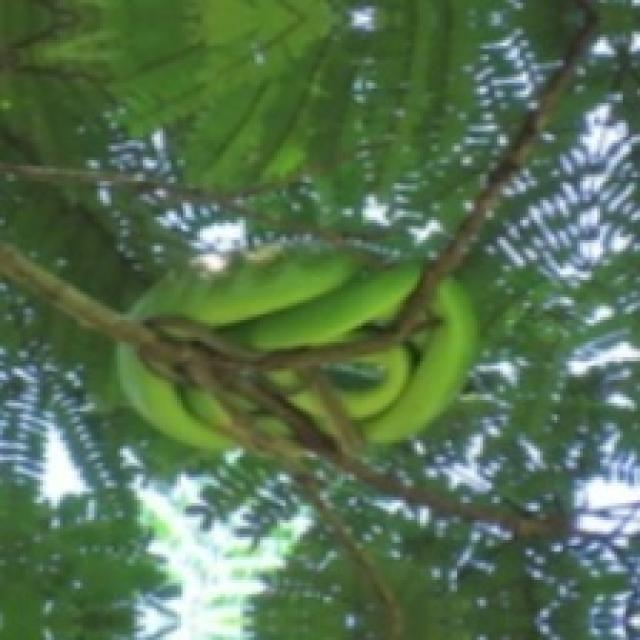red-tailed green ratsnake: (131, 249, 417, 349), (326, 280, 474, 440), (117, 343, 231, 446), (269, 371, 346, 434)
